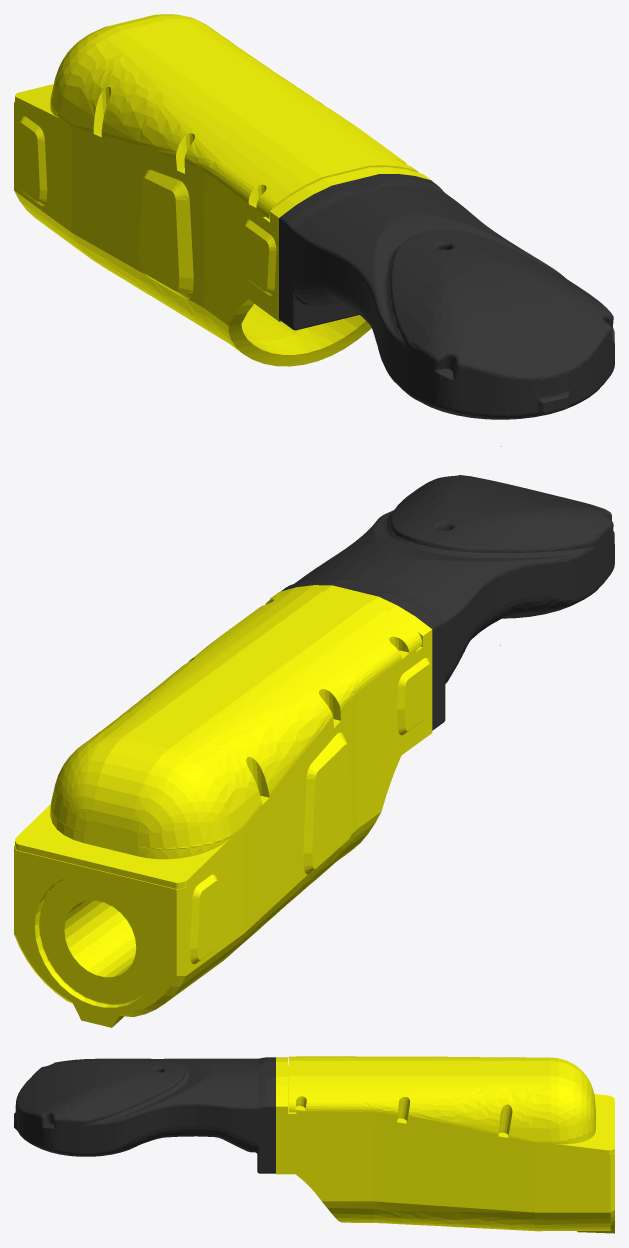
3 renders of one model, top to bottom at view 1: azimuth 30°, elevation 25°; view 2: azimuth 150°, elevation 25°; view 3: azimuth 270°, elevation 25°, orthographic. The views are drawn at different scales.
Visible parts, largest first — view 1: node; view 2: node; view 3: node.
Boxes of the visible parts, x1,y1,x2,y2 form: node: [14, 14, 614, 446]; node: [14, 475, 614, 1027]; node: [14, 1056, 614, 1233].
Bounding box in the file's own units: 158 × 198 × 675.
